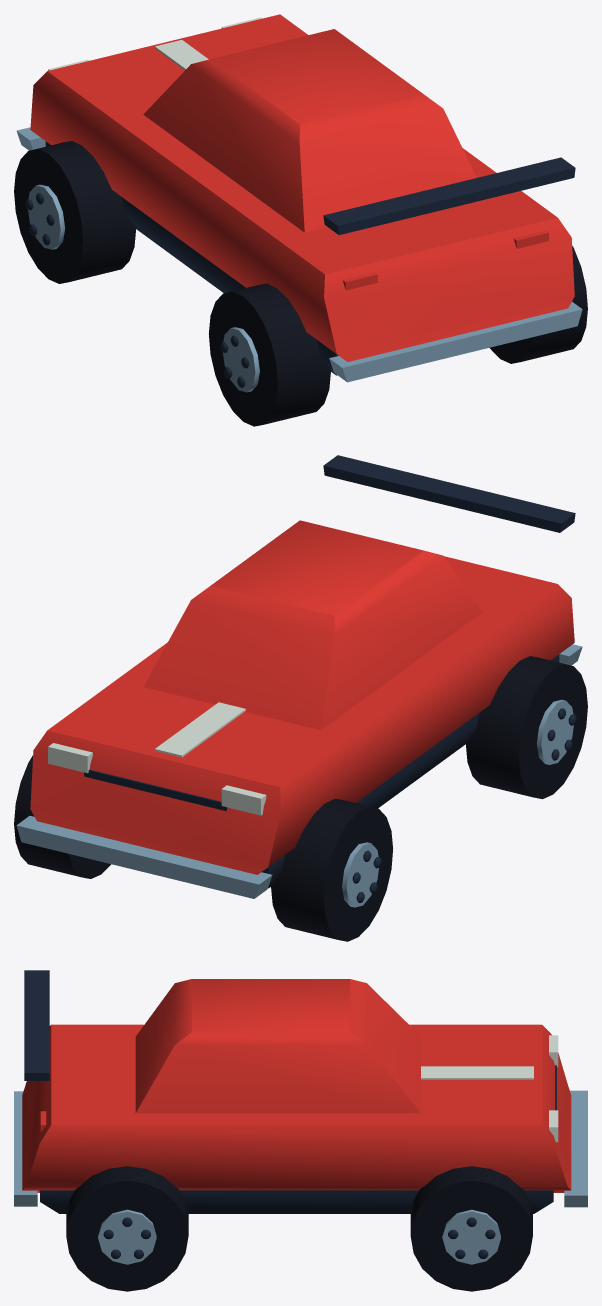
File: RallyCar.glb
3 renders of one model, top to bottom at view 1: azimuth 30°, elevation 25°; view 2: azimuth 150°, elevation 25°; view 3: azimuth 270°, elevation 25°, orthographic. The views are drawn at different scales.
Visible parts, largest first — view 1: chassis, fastback_roof, -1_rear_tread, -1_front_tread, rear_spoiler, rear_bumper, undertray, 1_rear_tread, -1_rear_rim, -1_front_rim, bonnet_stripe; view 2: chassis, fastback_roof, -1_rear_tread, -1_front_tread, front_bumper, rear_spoiler, undertray, 1_front_tread, bonnet_stripe, -1_front_rim, -1_rear_rim, front_grille (+2 smaller); view 3: chassis, fastback_roof, 1_rear_tread, 1_front_tread, undertray, rear_spoiler, 1_front_rim, 1_rear_rim, front_bumper, bonnet_stripe, rear_bumper.
Boxes of the visible parts, left/top/right/bottom form: chassis: left=30, top=14, right=574, bottom=361; fastback_roof: left=143, top=29, right=476, bottom=232; -1_rear_tread: left=209, top=283, right=330, bottom=426; -1_front_tread: left=14, top=141, right=135, bottom=283; rear_spoiler: left=323, top=157, right=575, bottom=234; rear_bumper: left=329, top=302, right=582, bottom=382; undertray: left=45, top=141, right=338, bottom=375; 1_rear_tread: left=489, top=246, right=587, bottom=363; -1_rear_rim: left=223, top=327, right=259, bottom=392; -1_front_rim: left=28, top=184, right=65, bottom=249; bonnet_stripe: left=155, top=40, right=208, bottom=69; chassis: left=30, top=556, right=574, bottom=874; fastback_roof: left=143, top=520, right=482, bottom=730; -1_rear_tread: left=465, top=656, right=587, bottom=799; -1_front_tread: left=271, top=798, right=392, bottom=941; front_bumper: left=16, top=816, right=272, bottom=898; rear_spoiler: left=323, top=455, right=575, bottom=532; undertray: left=261, top=654, right=559, bottom=888; 1_front_tread: left=14, top=755, right=110, bottom=878; bonnet_stripe: left=155, top=702, right=245, bottom=757; -1_front_rim: left=342, top=842, right=378, bottom=907; -1_rear_rim: left=537, top=699, right=573, bottom=764; front_grille: left=84, top=769, right=227, bottom=811; chassis: left=22, top=1024, right=571, bottom=1192; fastback_roof: left=135, top=979, right=420, bottom=1113; 1_rear_tread: left=66, top=1166, right=188, bottom=1291; 1_front_tread: left=410, top=1166, right=532, bottom=1291; undertray: left=40, top=1190, right=553, bottom=1213; rear_spoiler: left=24, top=970, right=49, bottom=1080; 1_front_rim: left=442, top=1209, right=500, bottom=1264; 1_rear_rim: left=98, top=1209, right=156, bottom=1264; front_bumper: left=564, top=1090, right=587, bottom=1207; bonnet_stripe: left=421, top=1066, right=533, bottom=1079; rear_bumper: left=14, top=1091, right=37, bottom=1206.
Bounding box in the file's own units: 2.89 × 2.06 × 4.88.
